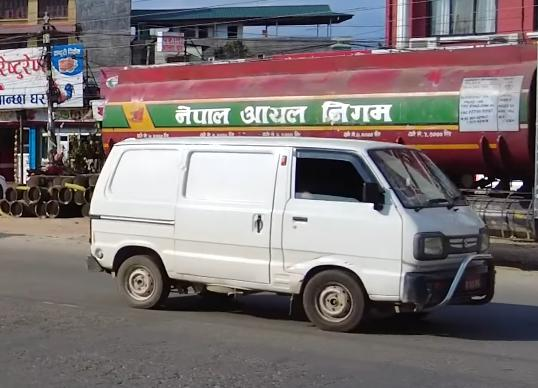van: (82, 129, 510, 333)
